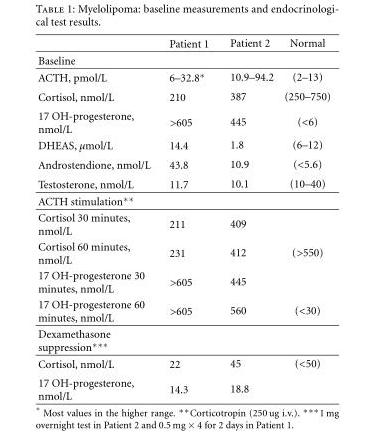table: (37, 36, 330, 401)
table column: (37, 36, 159, 401), (218, 36, 278, 401), (159, 36, 218, 401), (278, 36, 330, 401)
table column header: (37, 36, 330, 51)
table projected row header: (37, 325, 330, 354), (37, 51, 330, 68), (37, 192, 330, 209)
table row: (37, 106, 330, 136), (37, 209, 330, 238), (37, 238, 330, 267), (37, 267, 330, 296), (37, 296, 330, 325), (37, 325, 330, 354), (37, 373, 330, 401), (37, 86, 330, 106), (37, 154, 330, 174), (37, 354, 330, 373), (37, 68, 330, 86), (37, 136, 330, 154), (37, 174, 330, 192), (37, 51, 330, 68), (37, 192, 330, 209), (37, 36, 330, 51)
